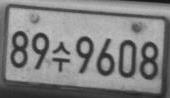0: (117, 38, 137, 78)
6: (95, 37, 115, 77)
8: (138, 40, 159, 79), (10, 29, 29, 68)
9: (75, 35, 94, 74), (31, 31, 50, 69)
수: (50, 40, 71, 73)
